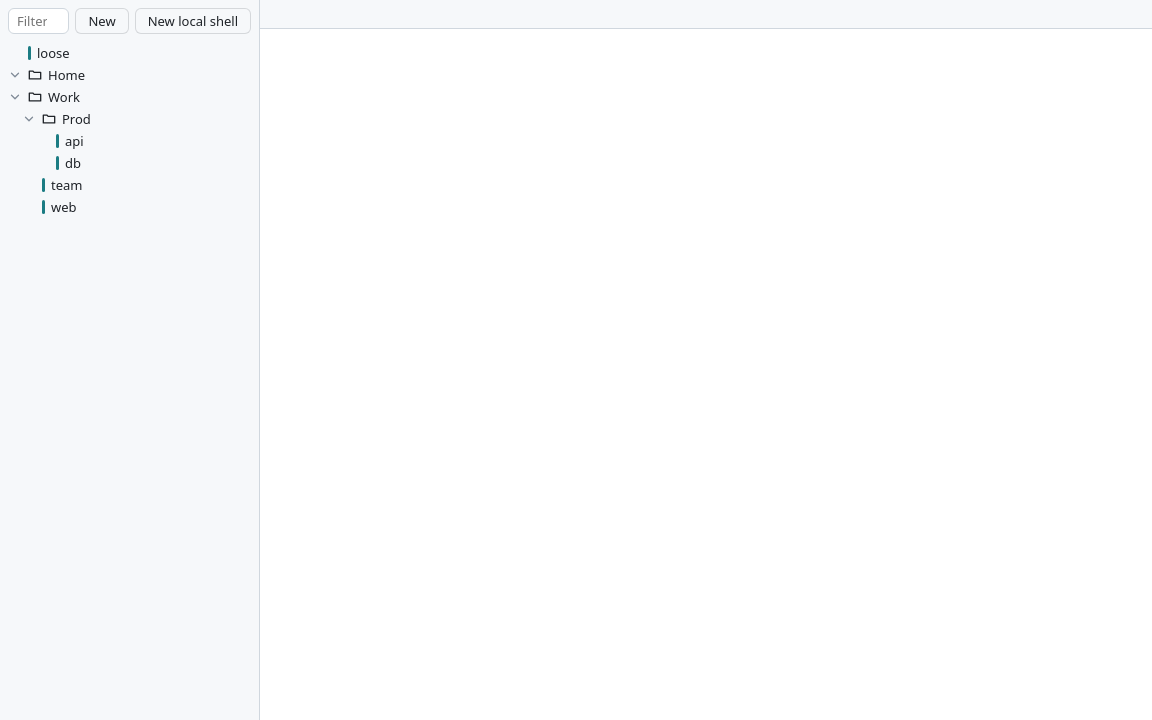
Delete folder › counts what goes, names open Tabs, offers only unshared secrets, unticked, with Cancel focused
Expected: the button "Work" is shown, [0,86,259,108]
Double-click the button "db" at (130, 163), box [0,152,259,174]
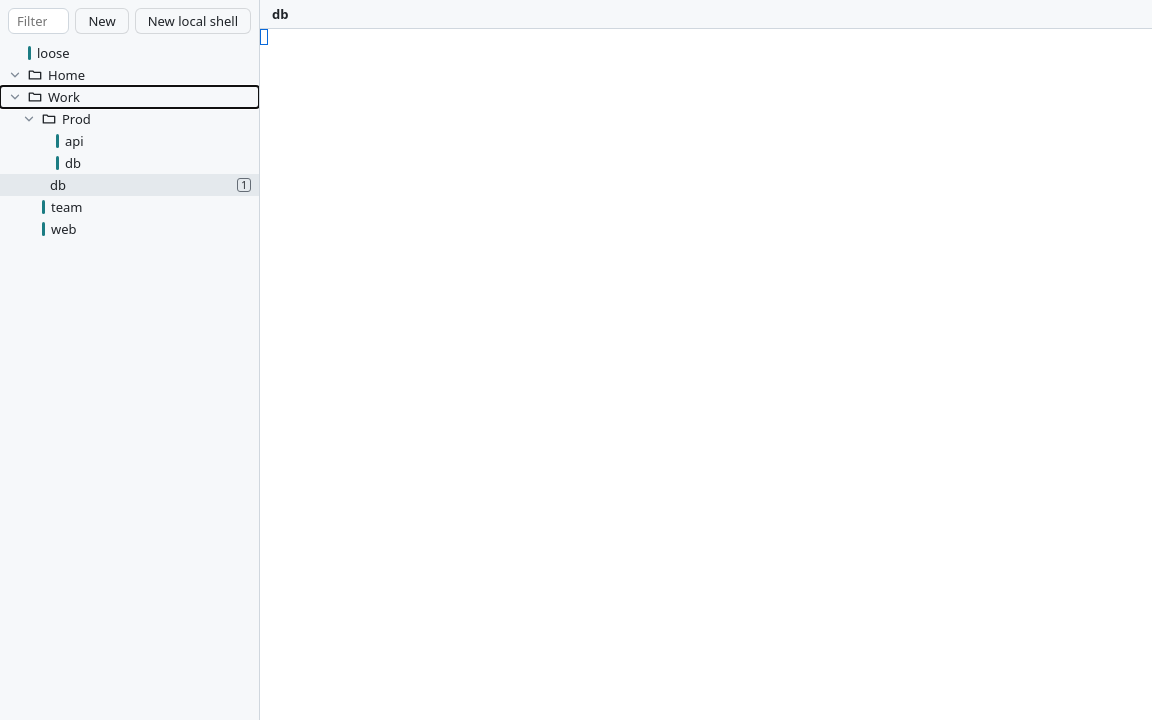
Press Delete
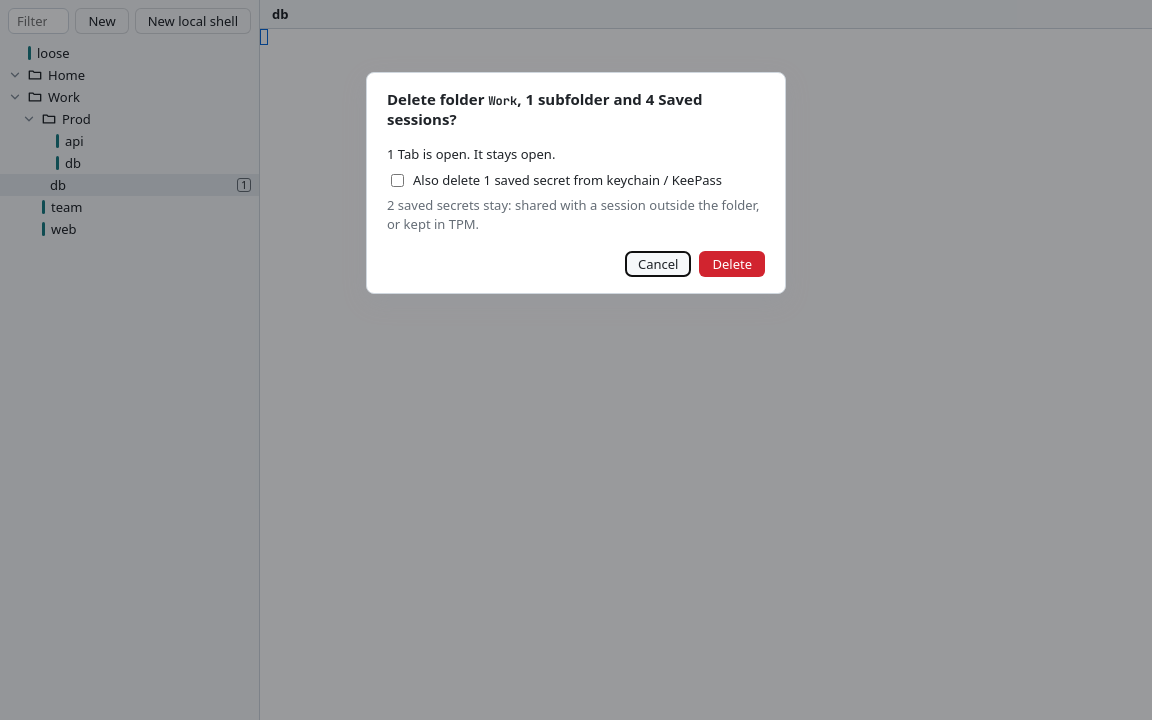
Expected: the dialog named "Delete Work" shows "Delete folder Work, 1 subfolder and 4 Saved sessions?", [366,72,786,294]
Expected: the dialog named "Delete Work" shows "1 Tab is open. It stays open.", [387,145,555,163]
Expected: the checkbox labelled "Also delete 1 saved secret from keychain / KeePass" is not checked
Click the checkbox labelled "Also delete 1 saved secret from keychain / KeePass" at (398, 180), box [391,174,404,186]
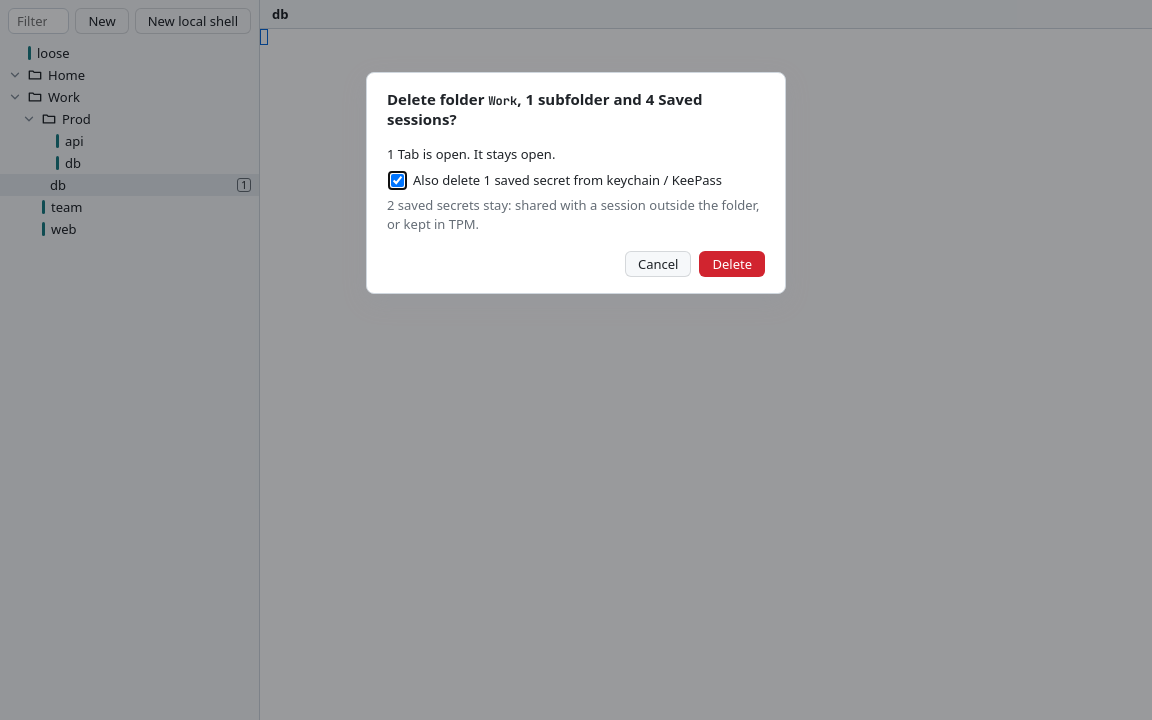
Click the button "Delete" at (732, 264), box [700,250,765,276]
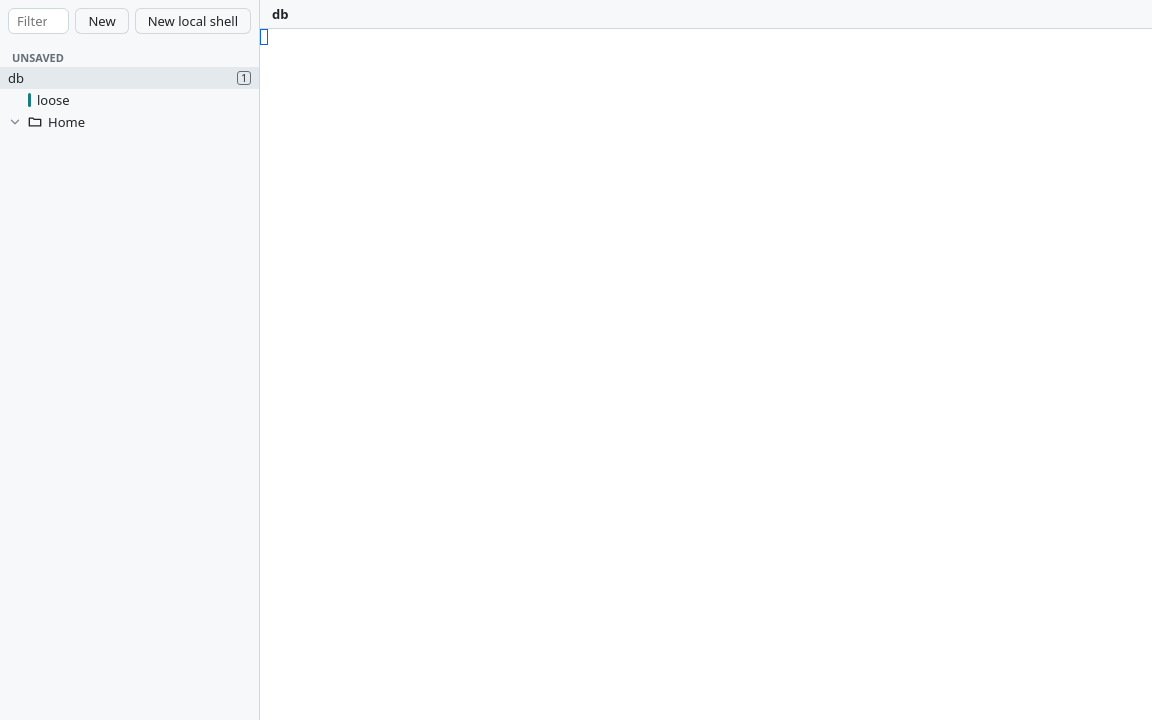
Expected: the button "db" is shown, [0,67,259,89]
Expected: the dialog is gone
